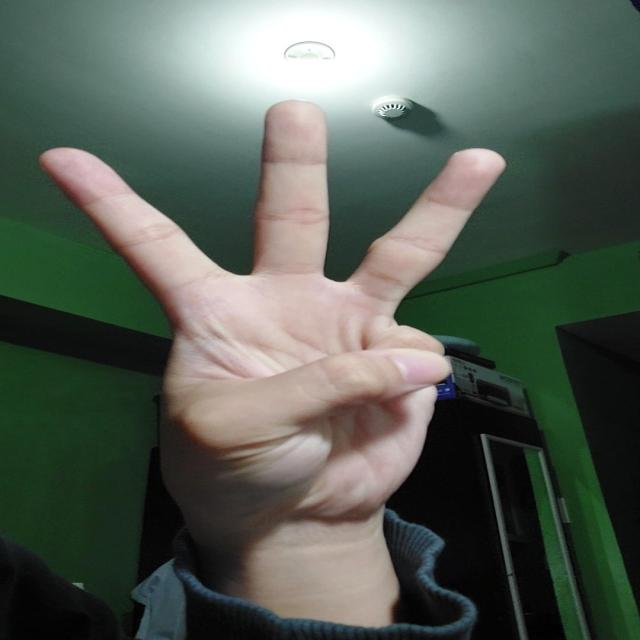W: (37, 99, 507, 521)
